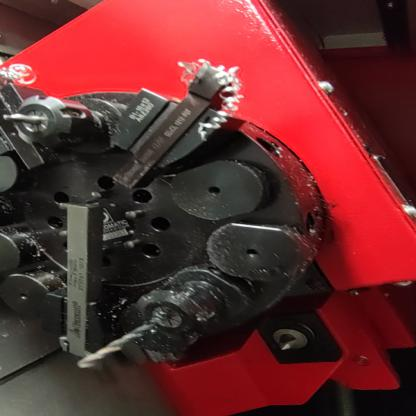bit: (99, 62, 248, 195), (29, 197, 134, 374), (0, 82, 56, 174)
